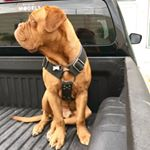puppy: (7, 3, 99, 149)
